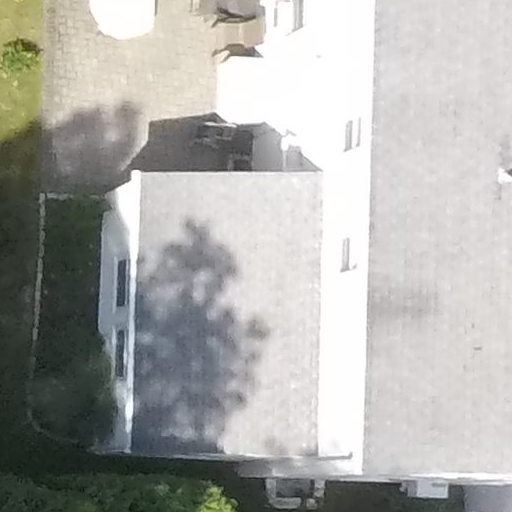chair: (207, 8, 274, 64)
flower bed: (35, 179, 105, 450)
